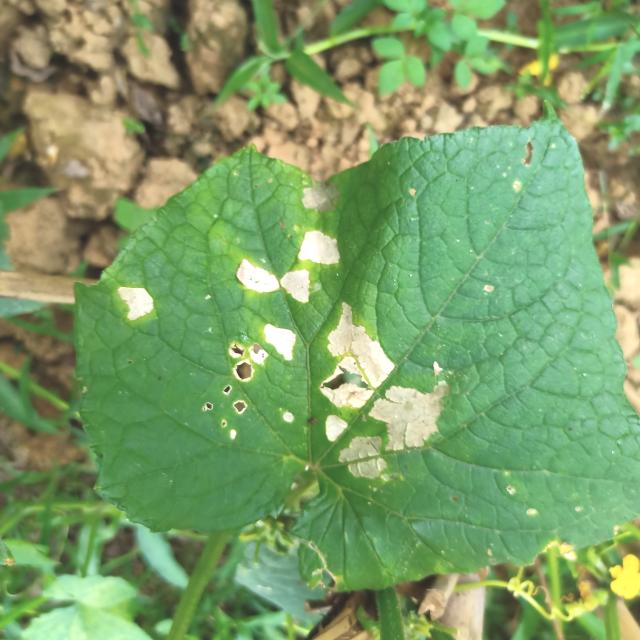disease_cucumber: (321, 296, 453, 491), (200, 316, 303, 440), (230, 225, 355, 304), (112, 278, 165, 329)
